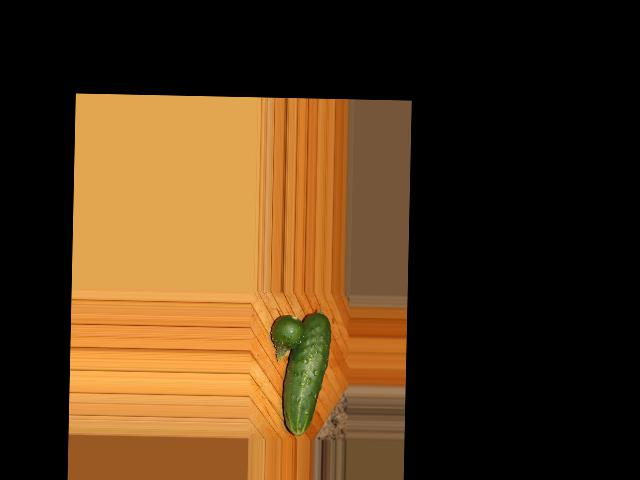cucumber: (281, 311, 331, 436)
